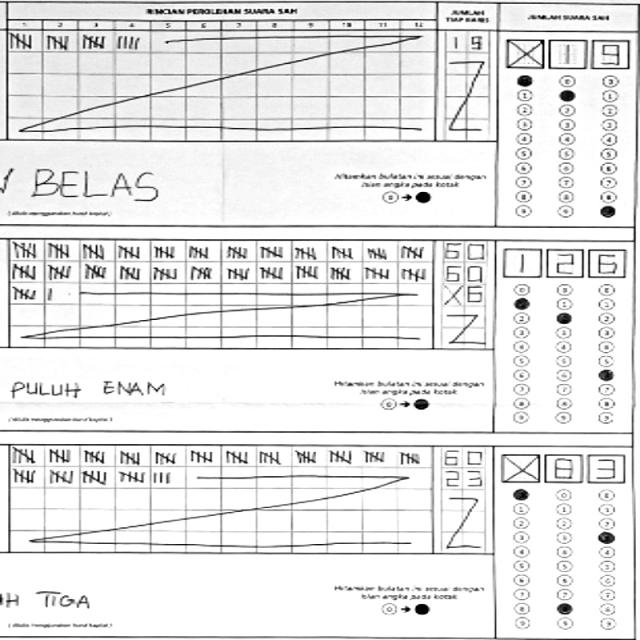Suara: (496, 29, 634, 72), (494, 241, 632, 284), (494, 444, 632, 487)
